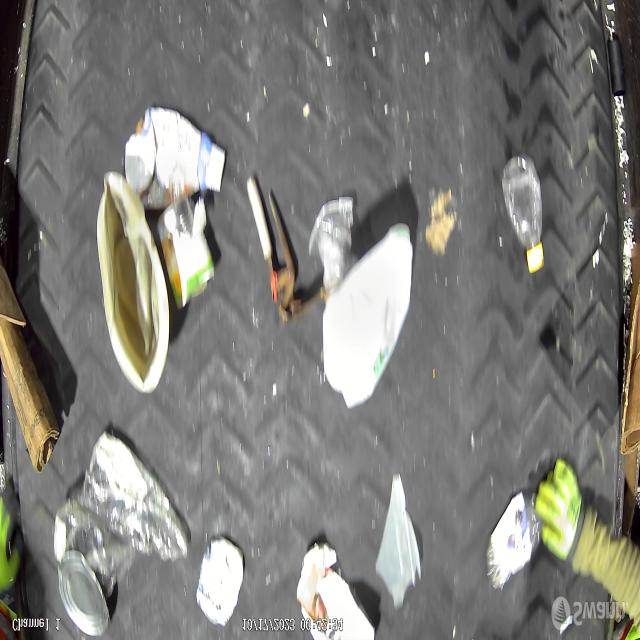can: (157, 194, 216, 310), (56, 553, 110, 637)
milk_jug: (321, 222, 415, 410)
plastic_bottle: (501, 151, 546, 271), (488, 491, 542, 589)
